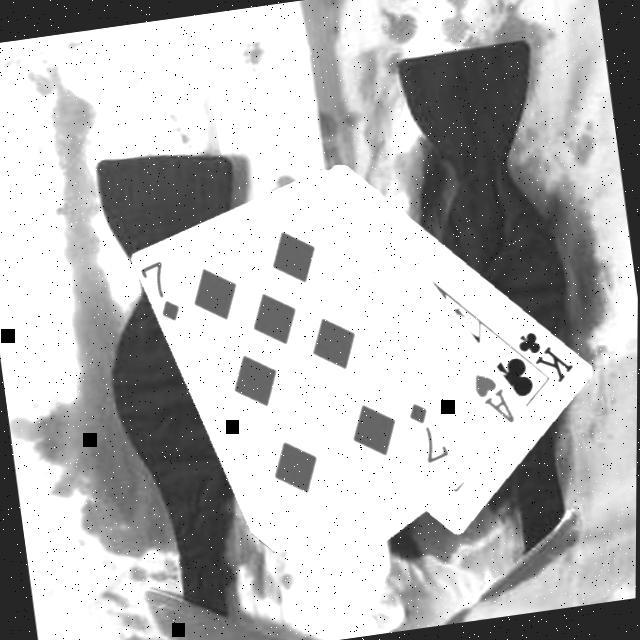7D: (140, 256, 188, 330), (406, 396, 452, 470)
AH: (470, 366, 521, 432)
KC: (502, 324, 582, 394)
